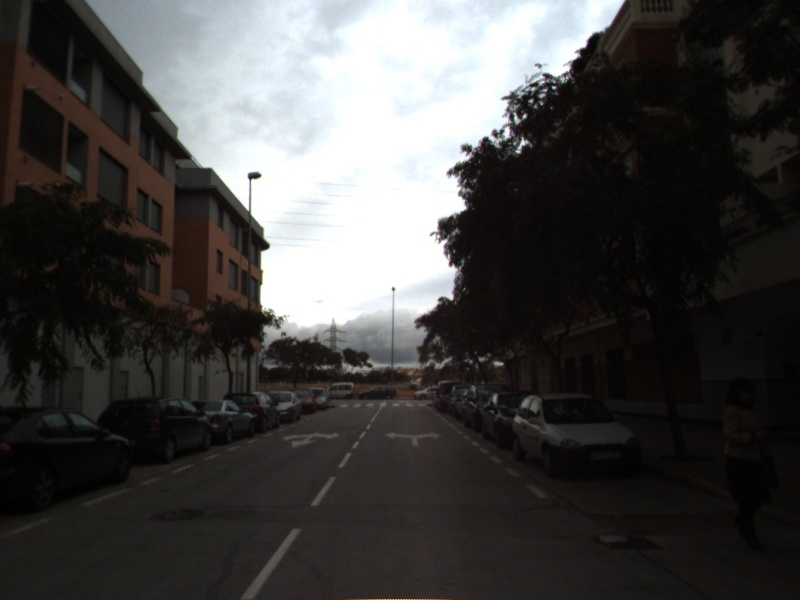LEFT_RIGHT: (383, 430, 444, 448)
